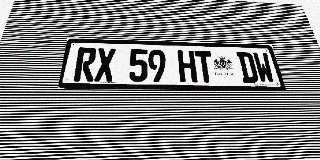5: (129, 49, 148, 82)
9: (148, 49, 167, 82)
D: (236, 52, 259, 83)
H: (177, 50, 197, 82)
R: (73, 47, 97, 81)
T: (194, 51, 215, 82)
W: (252, 52, 276, 83)
X: (94, 48, 116, 82)
